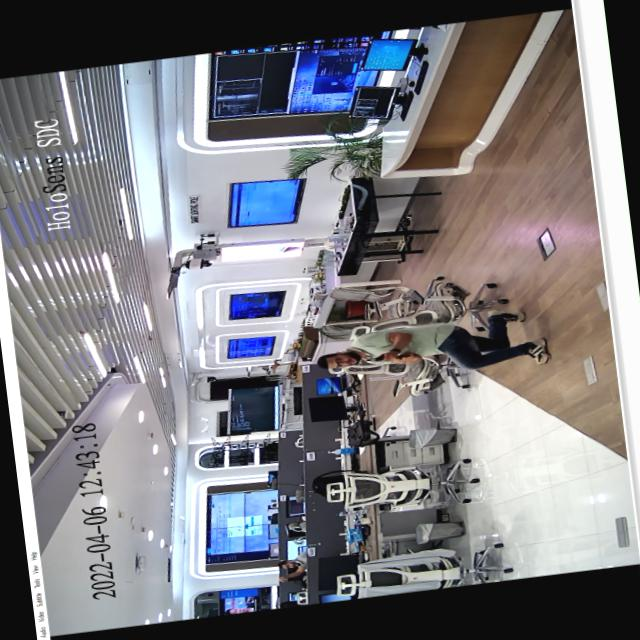long weapon: (362, 348, 410, 364)
